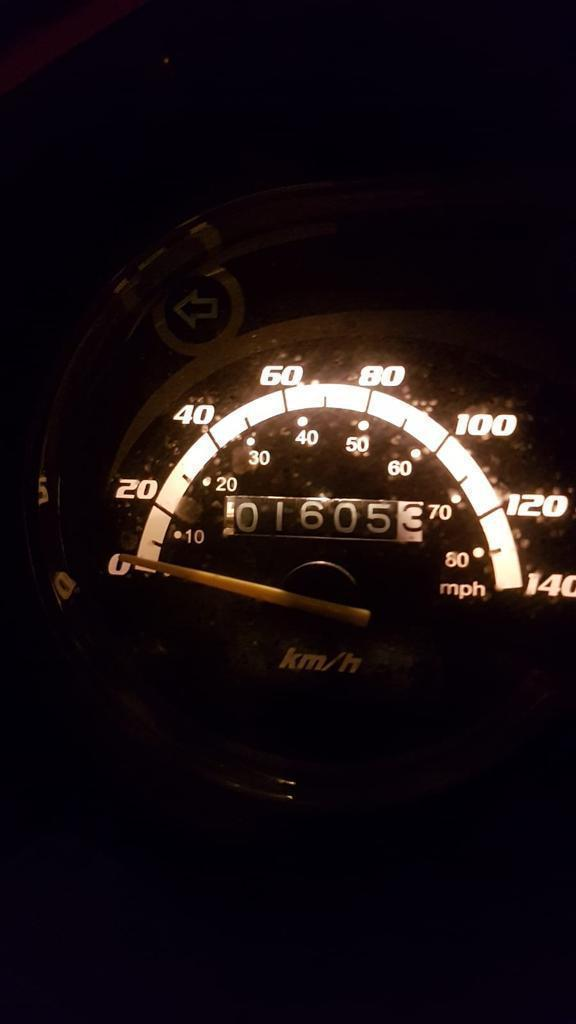0: (332, 498, 358, 537), (233, 499, 261, 535)
1: (273, 496, 286, 535)
3: (401, 501, 425, 535)
5: (366, 501, 392, 536)
6: (298, 498, 326, 533)
odometer: (220, 492, 427, 545)
